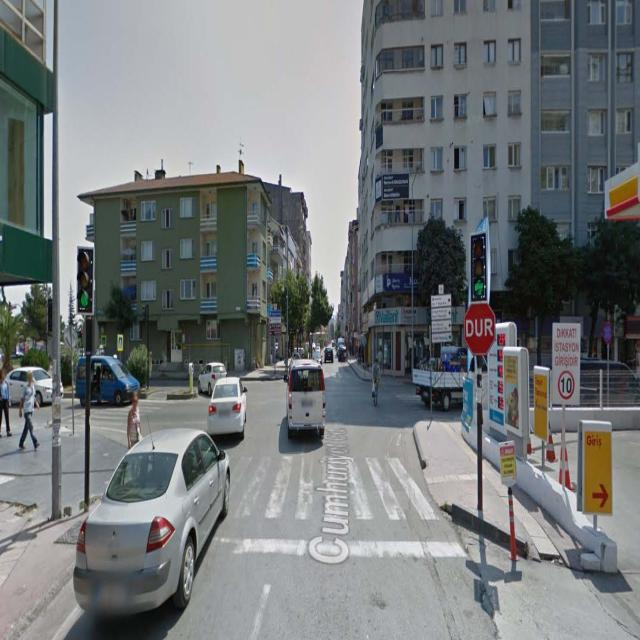dur: (464, 302, 496, 358)
yesil: (76, 244, 94, 315), (471, 234, 486, 304)
